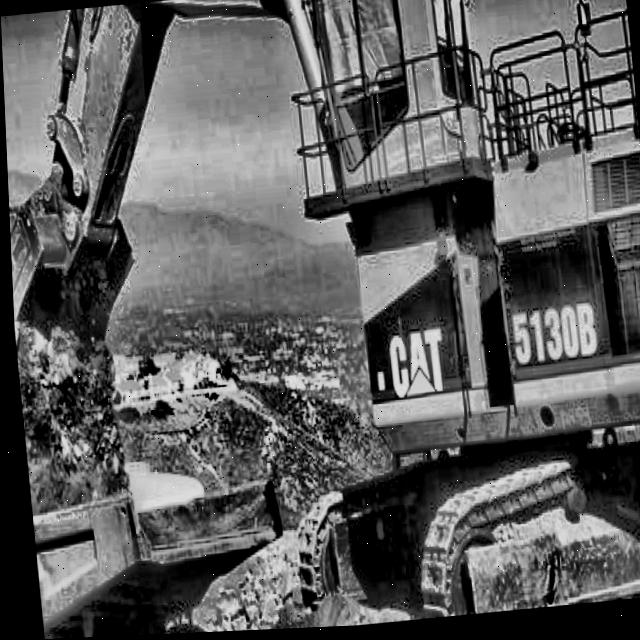dump_truck: (21, 427, 285, 640)
excavator: (0, 0, 640, 640)
